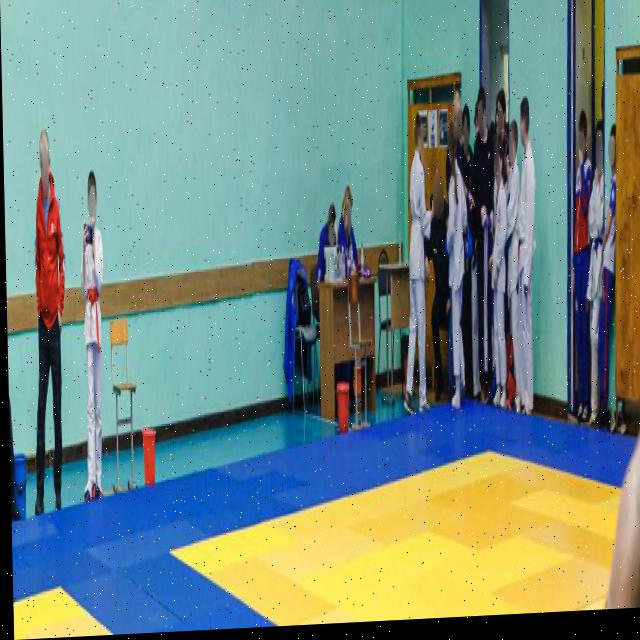Person: (28, 119, 70, 510), (72, 161, 111, 523), (588, 113, 627, 440), (401, 100, 430, 435), (513, 88, 540, 433), (581, 116, 609, 447), (567, 114, 590, 434), (500, 117, 522, 437), (486, 134, 508, 426), (426, 166, 453, 396), (471, 91, 493, 356), (458, 94, 475, 414), (306, 208, 337, 296), (337, 184, 361, 285), (495, 97, 510, 155)
